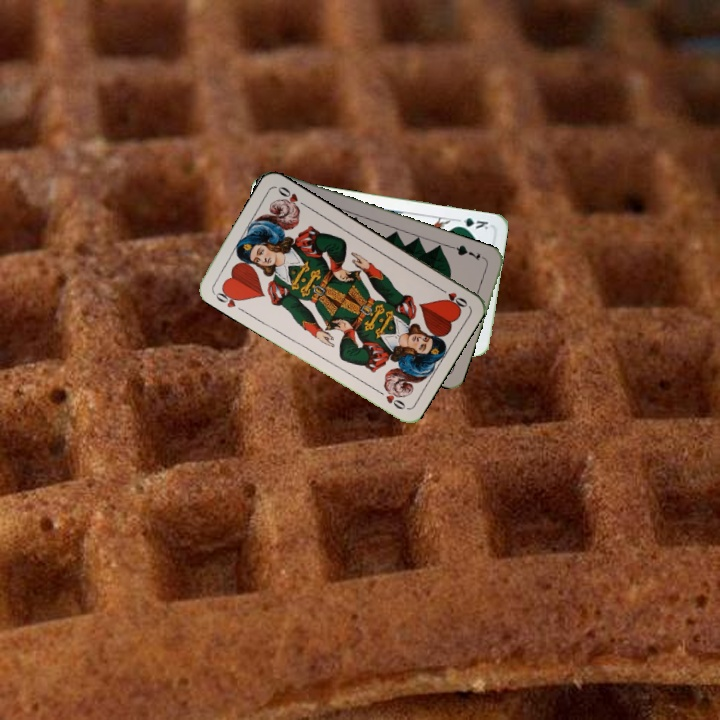G7: (449, 241, 488, 264)
GK: (451, 213, 491, 233)
HO: (434, 283, 470, 310), (209, 284, 244, 310)
